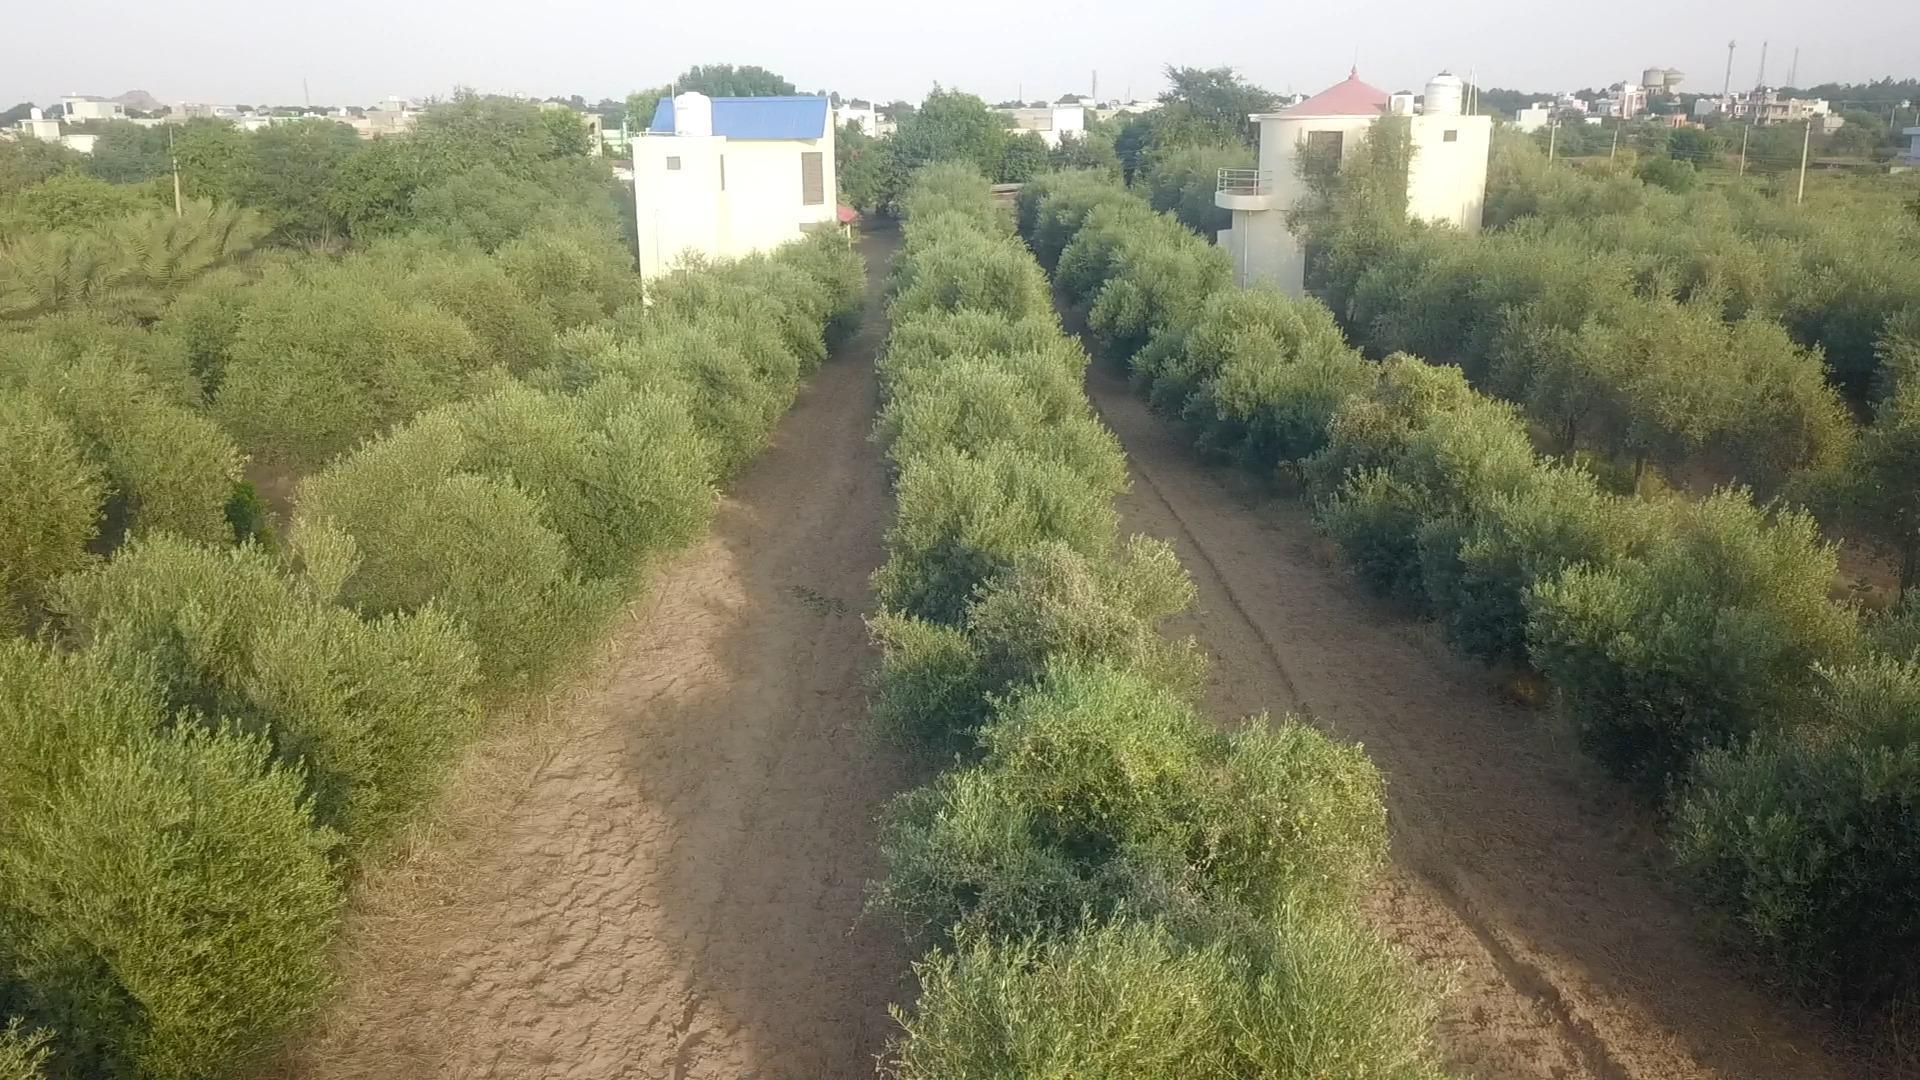canopy: (1017, 170, 1919, 1002), (0, 227, 862, 1079), (866, 161, 1447, 1079), (1292, 131, 1919, 582)
road: (1089, 360, 1873, 1079), (297, 225, 910, 1079)
